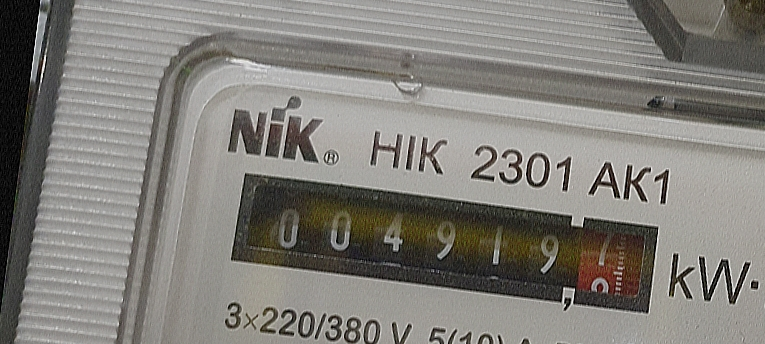0: (323, 205, 355, 253), (272, 204, 301, 250)
1: (485, 221, 505, 268)
4: (377, 207, 406, 253)
7: (587, 227, 615, 269)
9: (532, 229, 561, 278), (429, 217, 458, 263)
screen: (215, 157, 676, 333)
